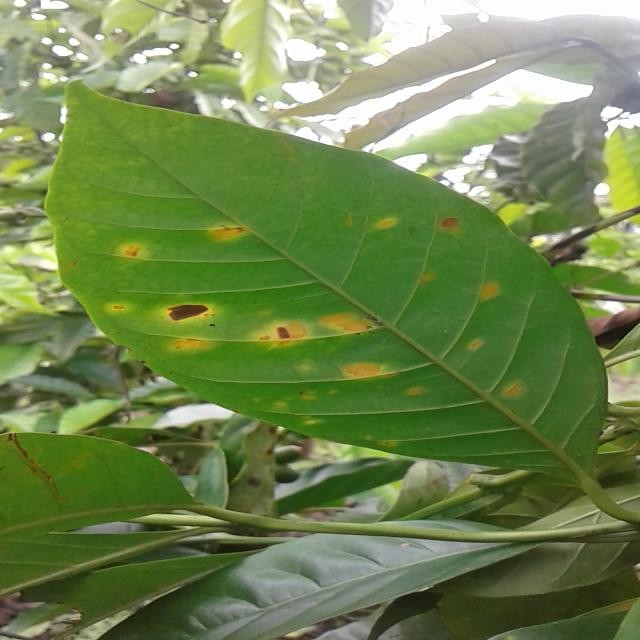Enfermedad-Roya: (43, 82, 640, 526)
